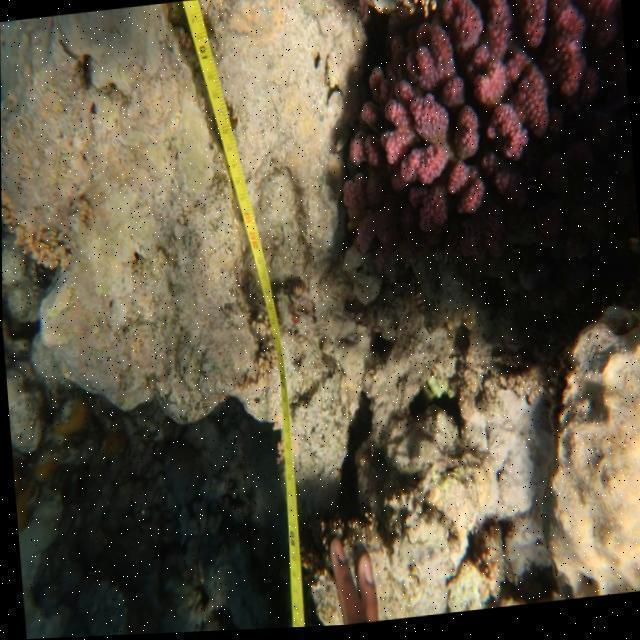Healthy Coral: (320, 0, 638, 263)
